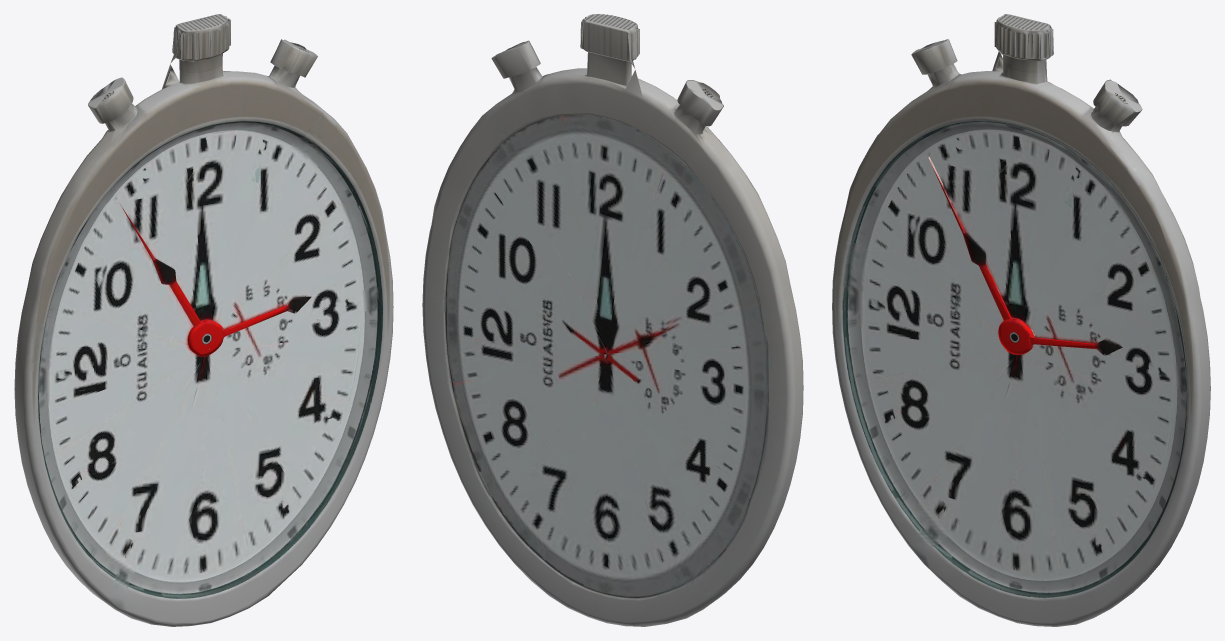
The model's file is stopwatch.glb.
3 views of the same model, side by side, from view 1: azimuth 30°, elevation 25°; view 2: azimuth 150°, elevation 25°; view 3: azimuth 330°, elevation 25° (orthographic).
Size of the model in its own units: 0.6177 by 0.9507 by 0.044.
1 material, 1 textured.
